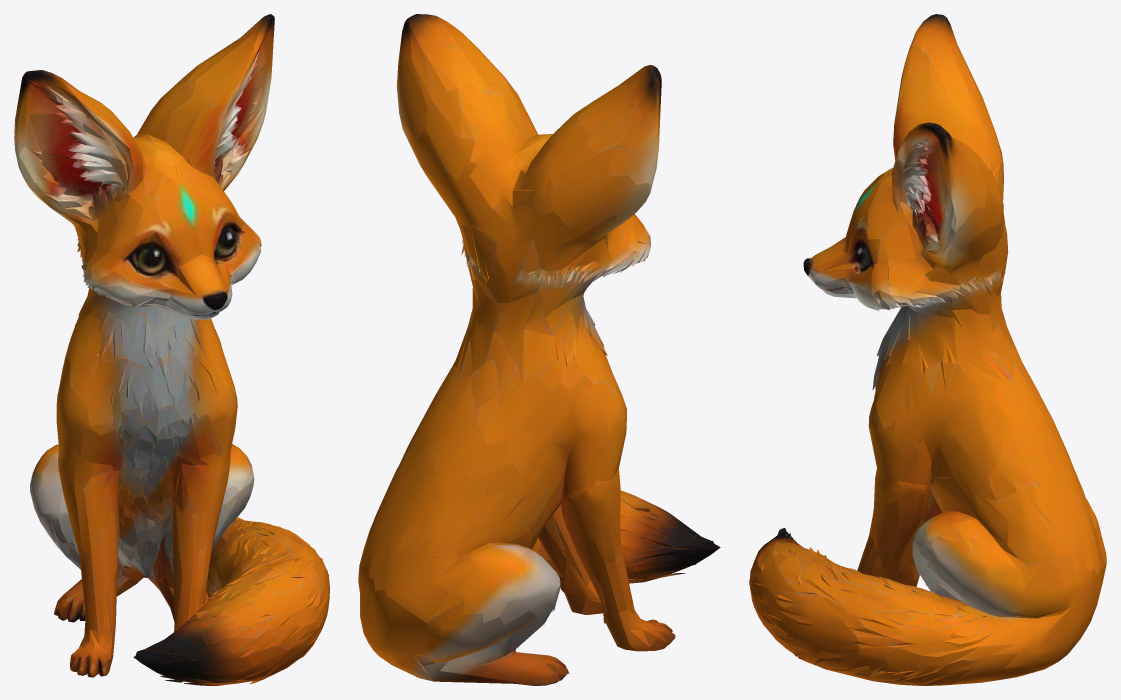
The model's file is fox.glb.
The picture shows the model from 3 angles, left to right: view 1: azimuth 30°, elevation 25°; view 2: azimuth 150°, elevation 25°; view 3: azimuth 270°, elevation 25°; orthographic projection. The views are drawn at different scales.
Bounding box in the file's own units: 0.9207 × 1.9 × 1.1.
Materials: 1 (1 with a texture image).
